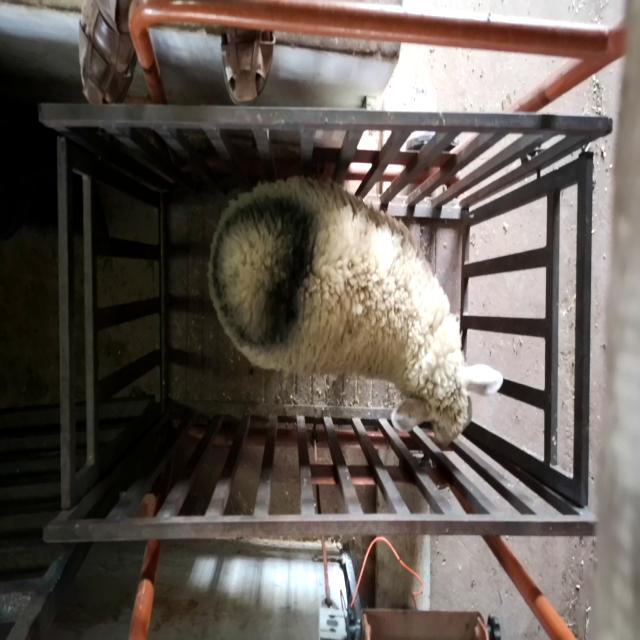sheep: (208, 175, 503, 447)
